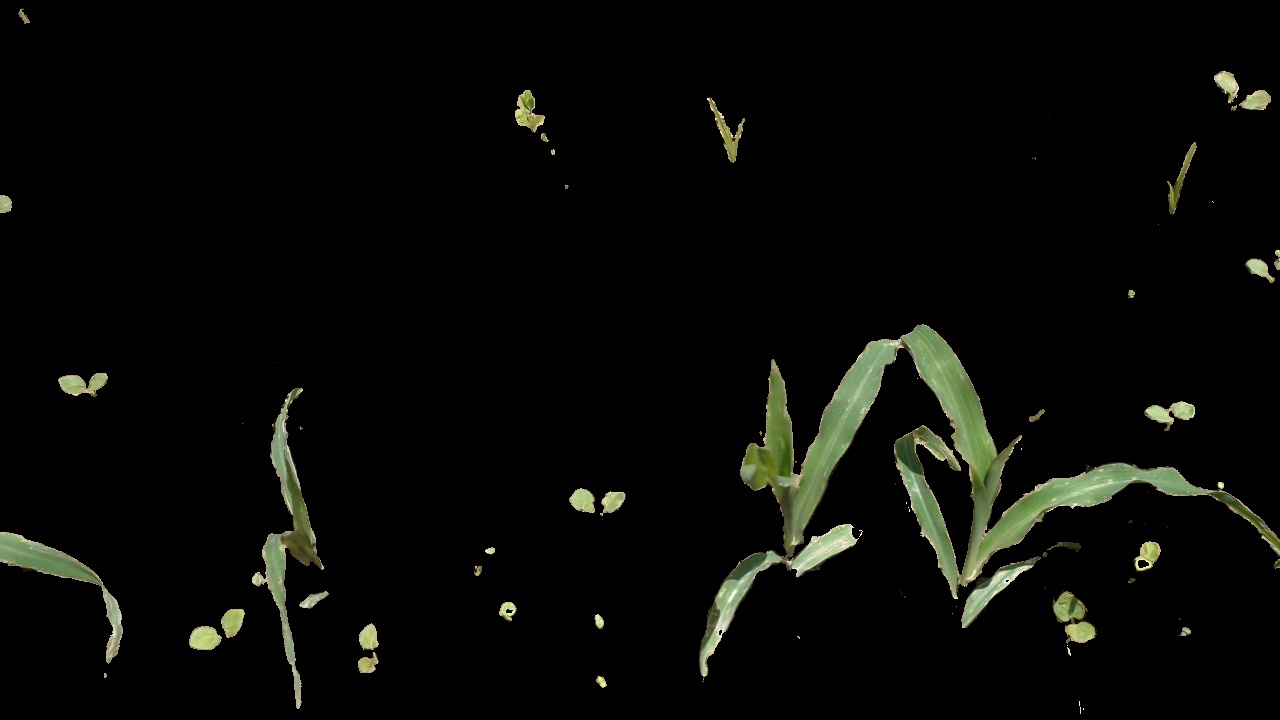crop: (905, 307, 1280, 633), (695, 311, 906, 684), (240, 385, 321, 711)
weed: (501, 91, 582, 163), (1149, 124, 1208, 210), (1220, 62, 1273, 133), (188, 604, 250, 653), (54, 363, 122, 407), (1133, 390, 1205, 430), (706, 95, 750, 158), (356, 617, 401, 674), (1053, 594, 1102, 646), (573, 478, 622, 517), (490, 596, 529, 633), (1135, 536, 1162, 582)
